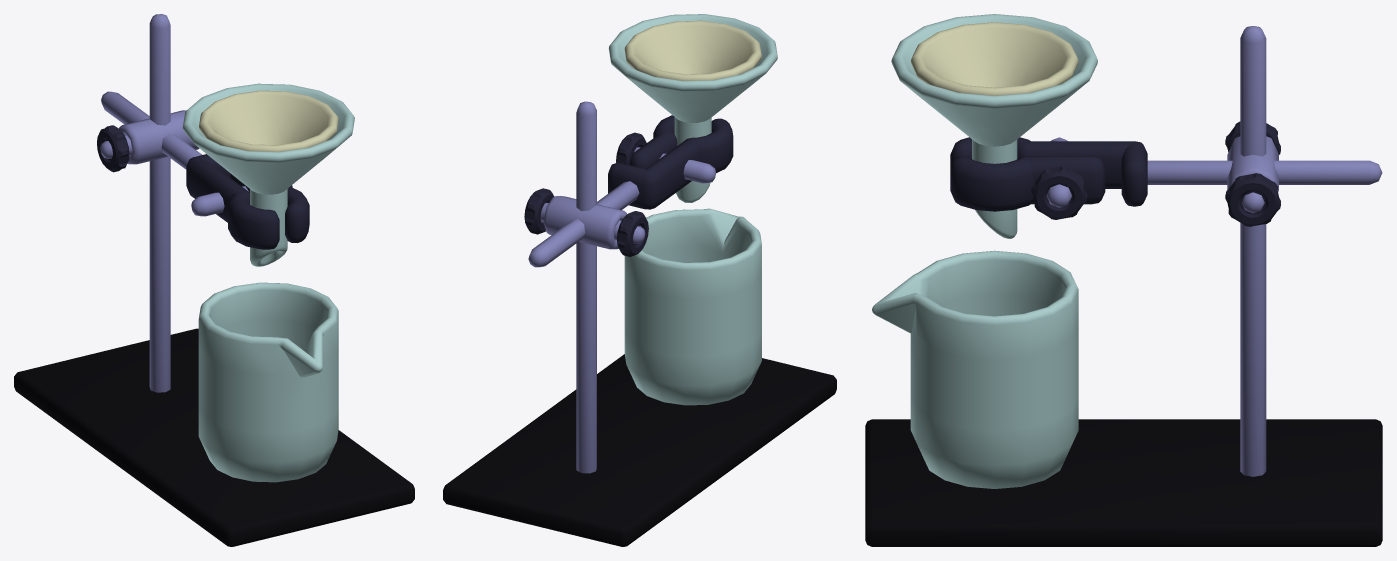
File: LastLuna_Model_Station_Filter.fbx
3 renders of one model, left to right at view 1: azimuth 30°, elevation 25°; view 2: azimuth 150°, elevation 25°; view 3: azimuth 270°, elevation 25°, orthographic. The views are drawn at different scales.
Visible parts, largest first — view 1: Stand_Base001, Beaker001, Funnel001, Stand_Pole001, Funnel_Filter001, Stand_Arm_Clamp_Base001, Stand_Fixture001, Stand_Arm_Clamp001, Stand_Arm_Clamp_001, Stand_Fixture_Handle001, Stand_Arm_Fixture_Clamp001; view 2: Stand_Base001, Beaker001, Funnel001, Stand_Pole001, Funnel_Filter001, Stand_Arm_Clamp_Base001, Stand_Fixture001, Stand_Arm_Clamp001, Stand_Fixture_Handle001, Stand_Arm_Clamp_001, Stand_Arm_Fixture_Clamp001, Stand_Arm_Fixture_Clamp_Handle001; view 3: Stand_Base001, Beaker001, Funnel001, Stand_Pole001, Funnel_Filter001, Stand_Arm_Clamp_001, Stand_Arm_Clamp001, Stand_Arm_Clamp_Base001, Stand_Fixture_Handle001, Stand_Arm_Fixture_Clamp_Handle001, Stand_Fixture001.
Part boxes in pixels (bbox=[...]): Stand_Base001: bbox=[14, 328, 414, 546]; Beaker001: bbox=[198, 282, 338, 482]; Funnel001: bbox=[182, 83, 354, 266]; Stand_Pole001: bbox=[149, 14, 170, 392]; Funnel_Filter001: bbox=[199, 90, 338, 151]; Stand_Arm_Clamp_Base001: bbox=[186, 154, 279, 249]; Stand_Fixture001: bbox=[100, 110, 199, 164]; Stand_Arm_Clamp001: bbox=[101, 91, 202, 169]; Stand_Arm_Clamp_001: bbox=[230, 173, 309, 242]; Stand_Fixture_Handle001: bbox=[97, 125, 129, 172]; Stand_Arm_Fixture_Clamp001: bbox=[191, 186, 248, 216]; Stand_Base001: bbox=[443, 354, 836, 546]; Beaker001: bbox=[624, 208, 761, 405]; Funnel001: bbox=[608, 14, 777, 202]; Stand_Pole001: bbox=[576, 101, 596, 473]; Funnel_Filter001: bbox=[624, 20, 761, 80]; Stand_Arm_Clamp_Base001: bbox=[608, 118, 733, 209]; Stand_Fixture001: bbox=[540, 196, 645, 249]; Stand_Arm_Clamp001: bbox=[528, 181, 639, 267]; Stand_Fixture_Handle001: bbox=[524, 188, 648, 256]; Stand_Arm_Clamp_001: bbox=[630, 115, 677, 168]; Stand_Arm_Fixture_Clamp001: bbox=[634, 147, 715, 183]; Stand_Arm_Fixture_Clamp_Handle001: bbox=[616, 132, 646, 165]; Stand_Base001: bbox=[865, 419, 1382, 546]; Beaker001: bbox=[872, 250, 1078, 488]; Funnel001: bbox=[891, 14, 1097, 238]; Stand_Pole001: bbox=[1240, 26, 1266, 476]; Funnel_Filter001: bbox=[910, 22, 1078, 95]; Stand_Arm_Clamp_001: bbox=[950, 156, 1105, 211]; Stand_Arm_Clamp001: bbox=[1147, 160, 1382, 184]; Stand_Arm_Clamp_Base001: bbox=[950, 137, 1147, 206]; Stand_Fixture_Handle001: bbox=[1225, 121, 1280, 226]; Stand_Arm_Fixture_Clamp_Handle001: bbox=[1031, 166, 1087, 219]; Stand_Fixture001: bbox=[1227, 136, 1278, 213].
Size of the model in its own units: 39.37 by 78.74 by 78.74.
